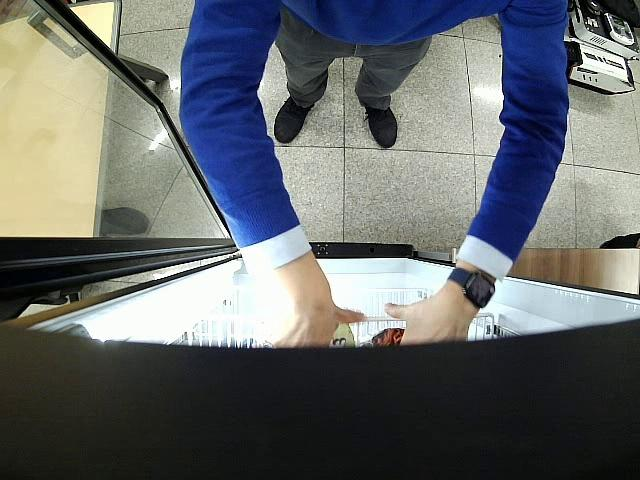00_hand: (250, 285, 368, 346), (383, 288, 474, 342)
